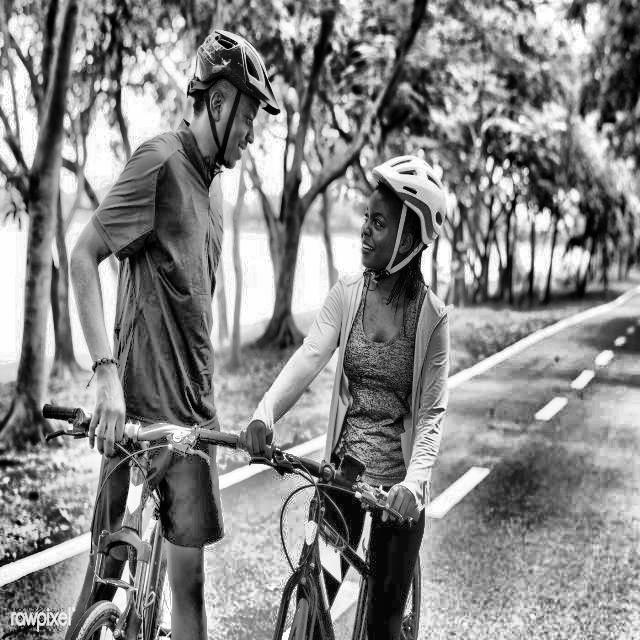Helmet: (184, 25, 284, 174), (356, 151, 449, 284)
